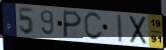5: (17, 6, 36, 36)
9: (39, 9, 55, 36)
C: (83, 11, 104, 42)
I: (115, 13, 123, 43)
P: (62, 10, 84, 39)
X: (128, 15, 148, 46)
